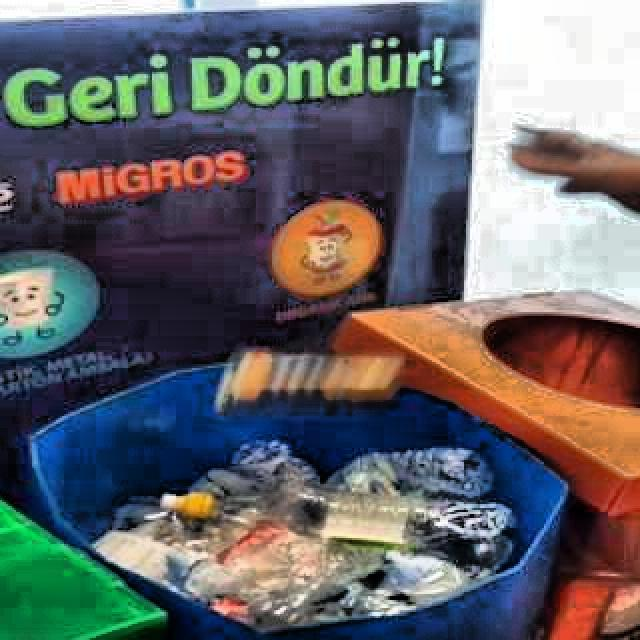metal: (216, 350, 405, 416)
